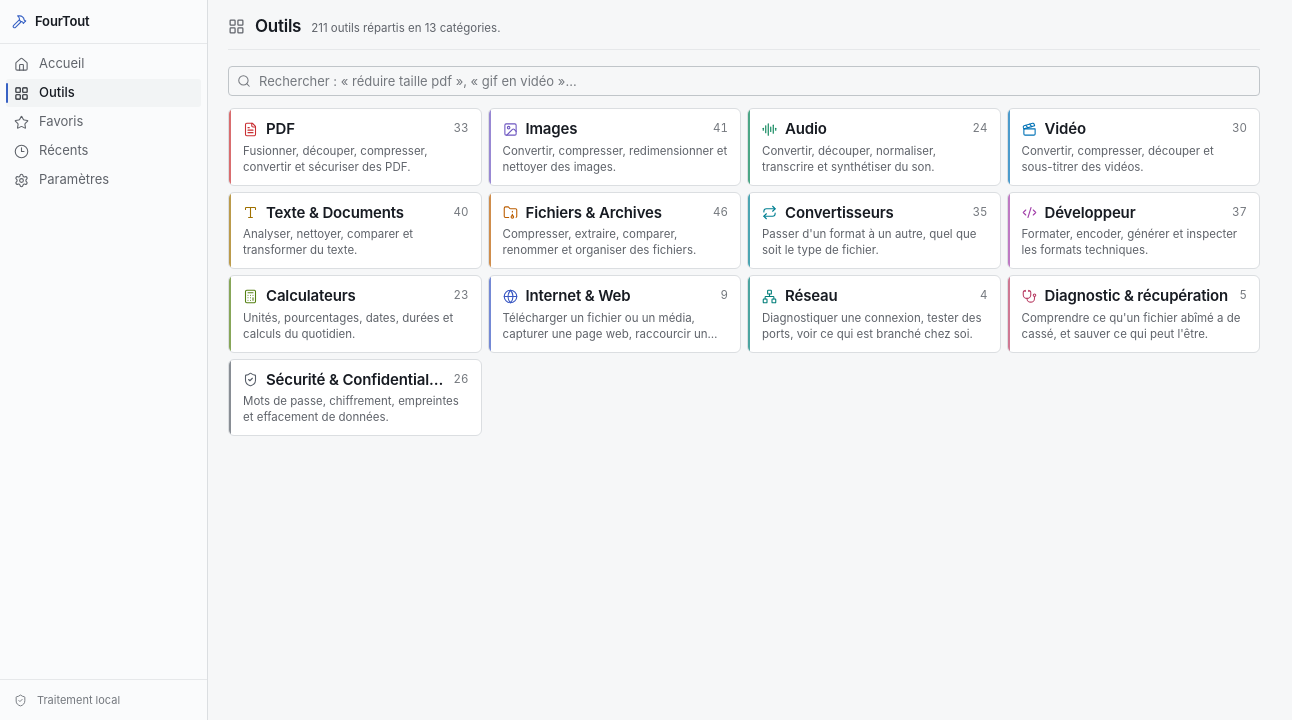
it: recherche depuis la page Outils › trouve « Compresser un PDF » avec « réduire taille pdf »
The image size is (1292, 720).
Type "réduire taille pdf" into the search field with placeholder "Rechercher : « réduire taille pdf », « gif en vidéo »…" at (755, 81), box [259, 72, 1251, 91]
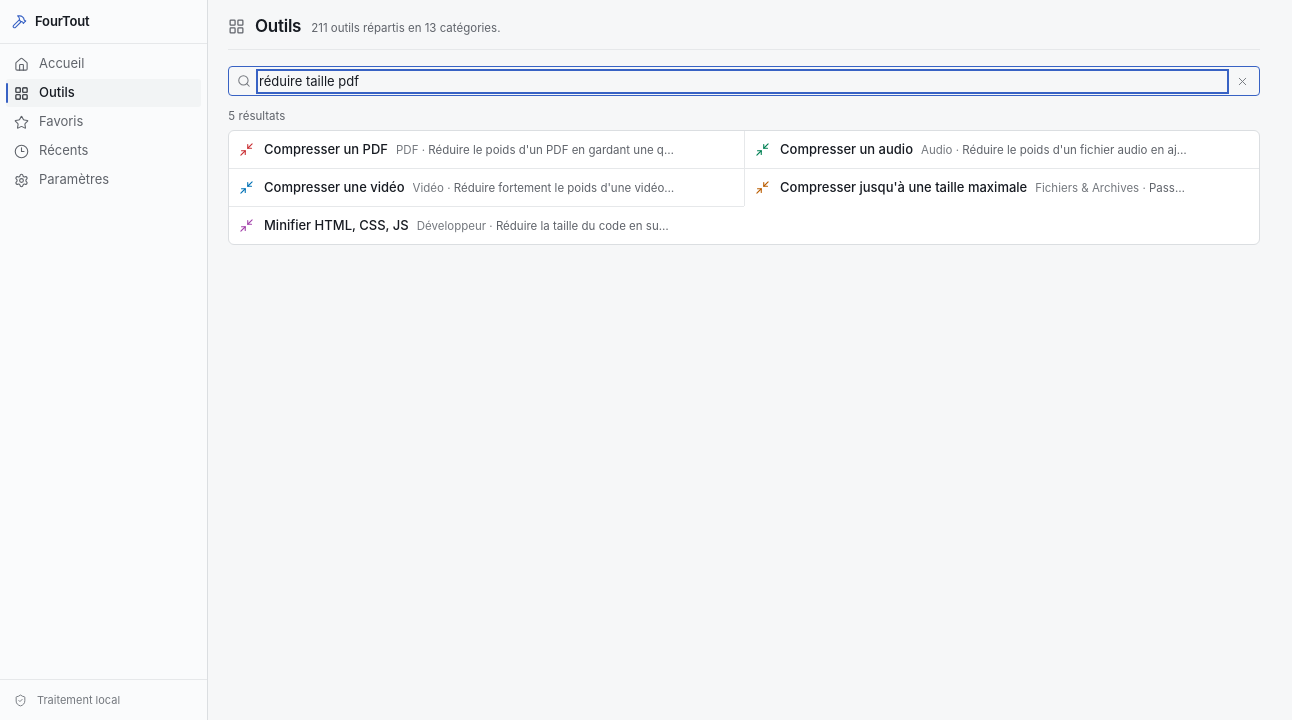
Now the link with test id "tool-row-pdf-compress" is shown, box [239, 141, 803, 157]
Now the text "Compresser un PDF" is shown, box [264, 140, 388, 160]
